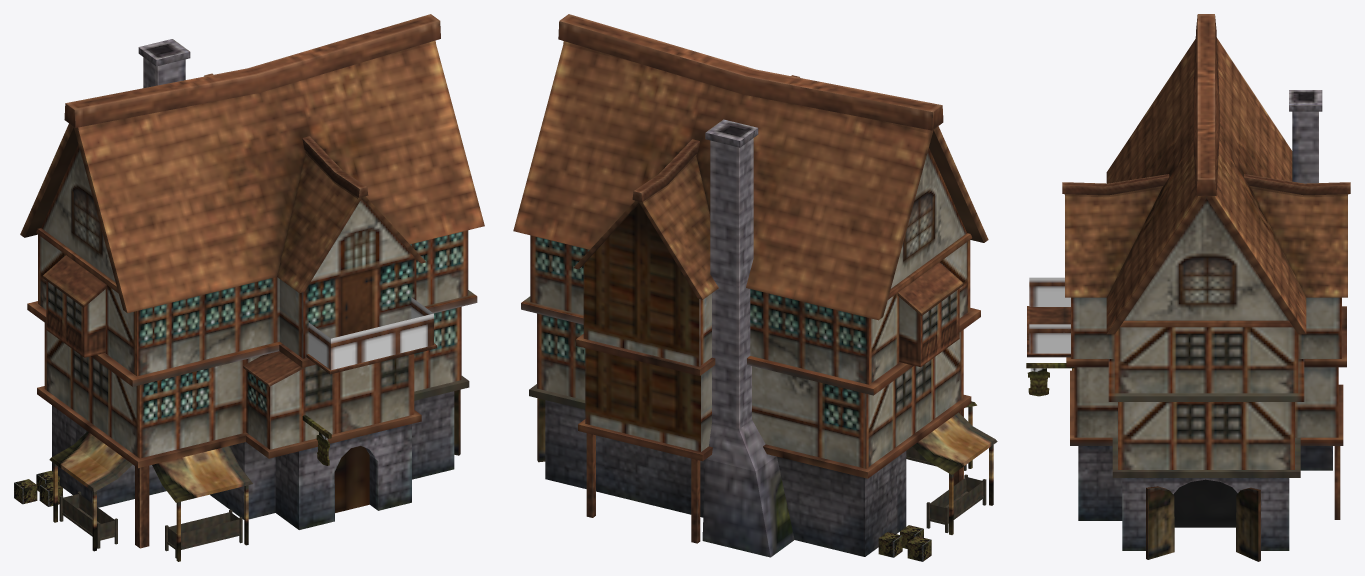
File: Temple_007.FBX
3 renders of one model, left to right at view 1: azimuth 30°, elevation 25°; view 2: azimuth 150°, elevation 25°; view 3: azimuth 270°, elevation 25°, orthographic. The views are drawn at different scales.
Visible parts, largest first — view 1: Temple_007; view 2: Temple_007; view 3: Temple_007.
Part boxes in pixels (x1,y1,x2,y2): Temple_007: (14,14,484,561); Temple_007: (513,14,997,561); Temple_007: (1026,14,1350,561).
Bounding box in the file's own units: 701 × 716 × 549.
